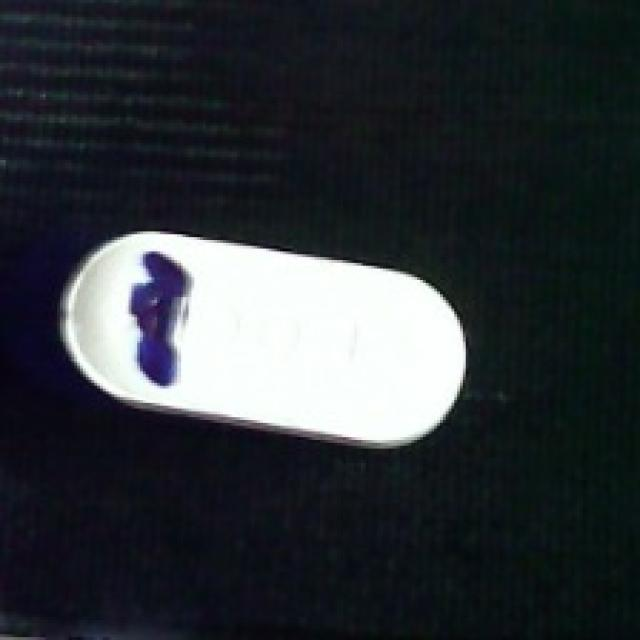defected: (46, 228, 471, 448)
